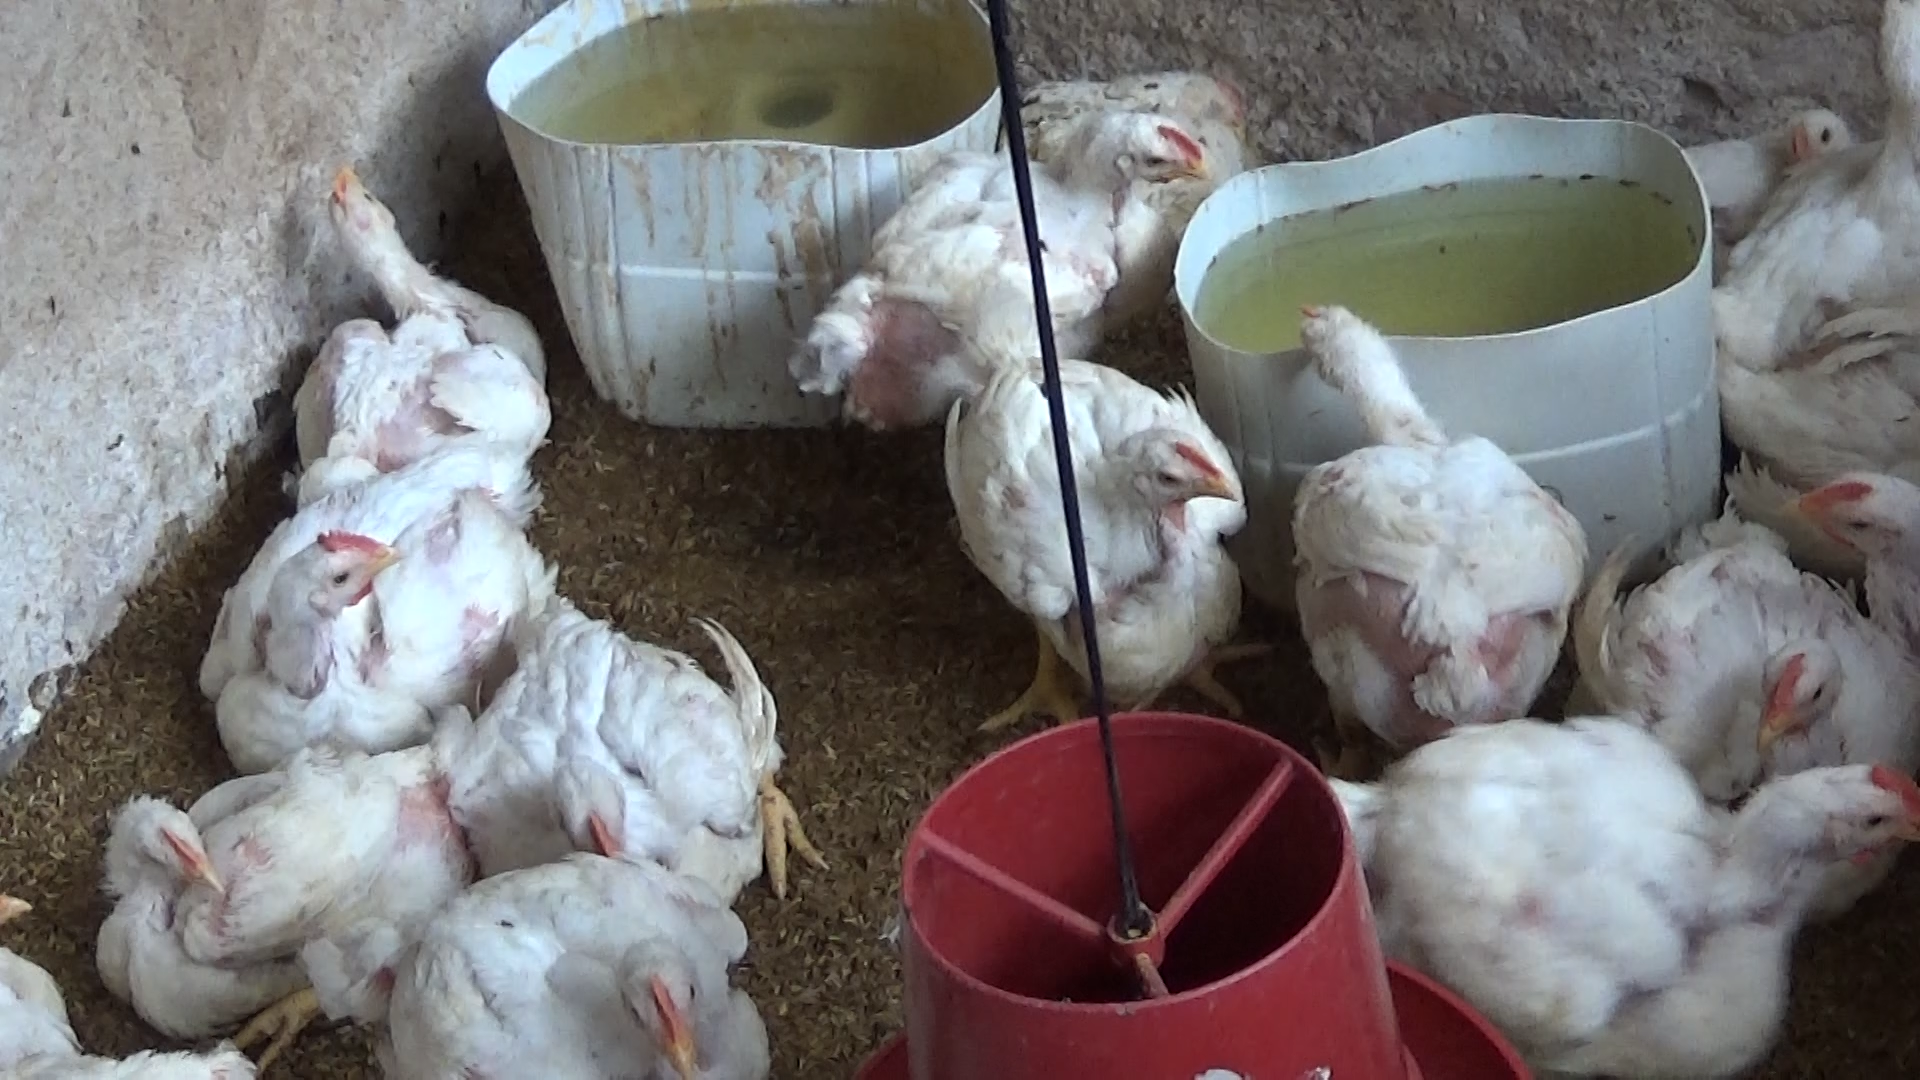Pollos: (1316, 665, 1909, 1080), (752, 84, 1205, 452), (435, 554, 827, 938), (1250, 286, 1576, 727), (928, 320, 1265, 738), (46, 737, 473, 1043), (1607, 488, 1920, 895), (202, 415, 553, 762), (331, 848, 795, 1080), (1702, 0, 1920, 458), (281, 179, 568, 491)
